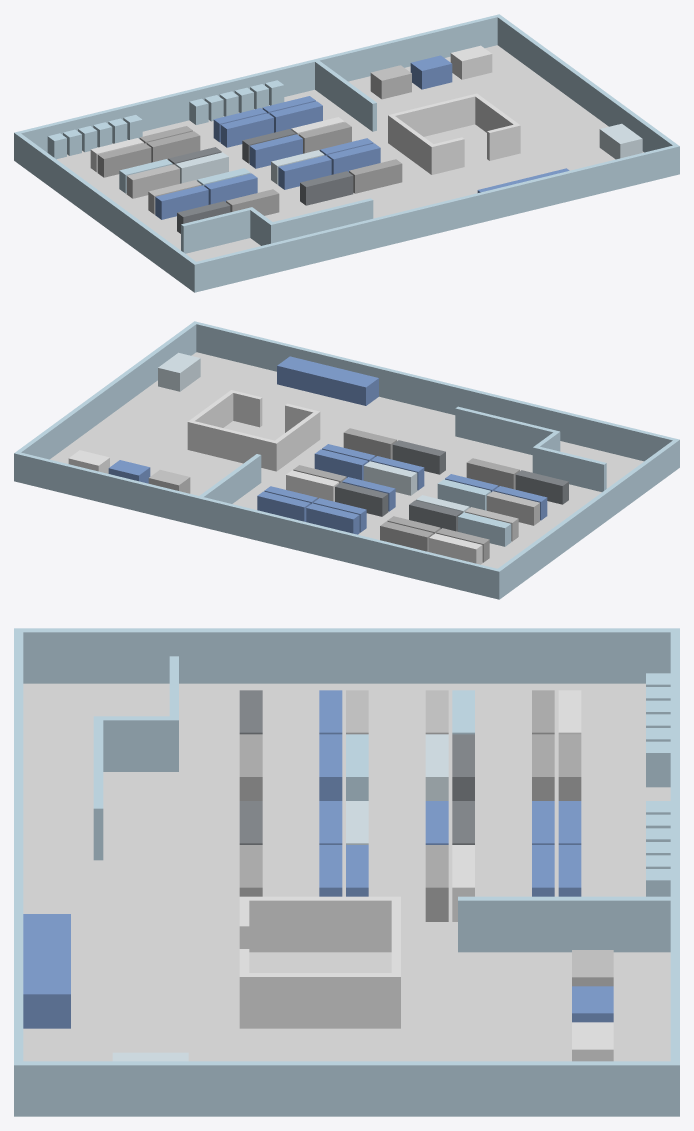
Rendered from example_factory_floor.dae.
The picture shows the model from 3 angles, top to bottom: view 1: azimuth 30°, elevation 25°; view 2: azimuth 150°, elevation 25°; view 3: azimuth 270°, elevation 25°; orthographic projection. The views are drawn at different scales.
Parts seen in each view (by area): view 1: 63502eb3163d36415474ed67.001, 63502eb3163d36415474ed67, 63502eb3163d36415474ed67.003, 63502eb3163d36415474ed67.002, 63502eb3163d36415474ed67.005, 63502eb3163d36415474ed67.014, 63502eb3163d36415474ed67.024, 63502eb3163d36415474ed67.029, 63502eb3163d36415474ed67.017, 63502eb3163d36415474ed67.004, 63502eb3163d36415474ed67.018, 63502eb3163d36415474ed67.010 (+18 smaller); view 2: 63502eb3163d36415474ed67.001, 63502eb3163d36415474ed67, 63502eb3163d36415474ed67.003, 63502eb3163d36415474ed67.002, 63502eb3163d36415474ed67.036, 63502eb3163d36415474ed67.035, 63502eb3163d36415474ed67.012, 63502eb3163d36415474ed67.021, 63502eb3163d36415474ed67.016, 63502eb3163d36415474ed67.005, 63502eb3163d36415474ed67.015, 63502eb3163d36415474ed67.009 (+19 smaller); view 3: 63502eb3163d36415474ed67, 63502eb3163d36415474ed67.001, 63502eb3163d36415474ed67.003, 63502eb3163d36415474ed67.002, 63502eb3163d36415474ed67.036, 63502eb3163d36415474ed67.022, 63502eb3163d36415474ed67.034, 63502eb3163d36415474ed67.026, 63502eb3163d36415474ed67.020, 63502eb3163d36415474ed67.007, 63502eb3163d36415474ed67.006, 63502eb3163d36415474ed67.033 (+25 smaller).
Part boxes in pixels (x1=…): 63502eb3163d36415474ed67.001: x1=14, y1=14, x2=679, y2=292; 63502eb3163d36415474ed67: x1=57, y1=45, x2=643, y2=261; 63502eb3163d36415474ed67.003: x1=388, y1=93, x2=520, y2=174; 63502eb3163d36415474ed67.002: x1=181, y1=198, x2=373, y2=253; 63502eb3163d36415474ed67.005: x1=300, y1=171, x2=353, y2=205; 63502eb3163d36415474ed67.014: x1=349, y1=159, x2=402, y2=193; 63502eb3163d36415474ed67.024: x1=97, y1=143, x2=151, y2=177; 63502eb3163d36415474ed67.029: x1=220, y1=113, x2=273, y2=147; 63502eb3163d36415474ed67.017: x1=126, y1=164, x2=179, y2=198; 63502eb3163d36415474ed67.004: x1=278, y1=155, x2=331, y2=189; 63502eb3163d36415474ed67.018: x1=249, y1=134, x2=302, y2=168; 63502eb3163d36415474ed67.010: x1=155, y1=185, x2=208, y2=219; 63502eb3163d36415474ed67.001: x1=14, y1=321, x2=679, y2=599; 63502eb3163d36415474ed67: x1=50, y1=352, x2=643, y2=568; 63502eb3163d36415474ed67.003: x1=187, y1=390, x2=320, y2=471; 63502eb3163d36415474ed67.002: x1=455, y1=406, x2=606, y2=491; 63502eb3163d36415474ed67.036: x1=277, y1=356, x2=378, y2=405; 63502eb3163d36415474ed67.035: x1=158, y1=352, x2=200, y2=391; 63502eb3163d36415474ed67.012: x1=363, y1=461, x2=417, y2=495; 63502eb3163d36415474ed67.021: x1=335, y1=482, x2=388, y2=516; 63502eb3163d36415474ed67.016: x1=458, y1=512, x2=511, y2=546; 63502eb3163d36415474ed67.005: x1=392, y1=440, x2=445, y2=474; 63502eb3163d36415474ed67.015: x1=515, y1=470, x2=568, y2=504; 63502eb3163d36415474ed67.009: x1=486, y1=491, x2=539, y2=525; 63502eb3163d36415474ed67: x1=23, y1=683, x2=670, y2=1061; 63502eb3163d36415474ed67.001: x1=14, y1=628, x2=679, y2=1116; 63502eb3163d36415474ed67.003: x1=239, y1=896, x2=400, y2=1028; 63502eb3163d36415474ed67.002: x1=93, y1=656, x2=178, y2=860; 63502eb3163d36415474ed67.036: x1=23, y1=914, x2=70, y2=1028; 63502eb3163d36415474ed67.022: x1=425, y1=845, x2=448, y2=921; 63502eb3163d36415474ed67.034: x1=572, y1=1022, x2=613, y2=1061; 63502eb3163d36415474ed67.026: x1=558, y1=734, x2=581, y2=800; 63502eb3163d36415474ed67.020: x1=425, y1=734, x2=448, y2=800; 63502eb3163d36415474ed67.007: x1=319, y1=734, x2=342, y2=800; 63502eb3163d36415474ed67.006: x1=239, y1=734, x2=262, y2=800; 63502eb3163d36415474ed67.033: x1=572, y1=986, x2=613, y2=1022.
Size of the model in its own units: 54.5 by 35.1 by 3.
